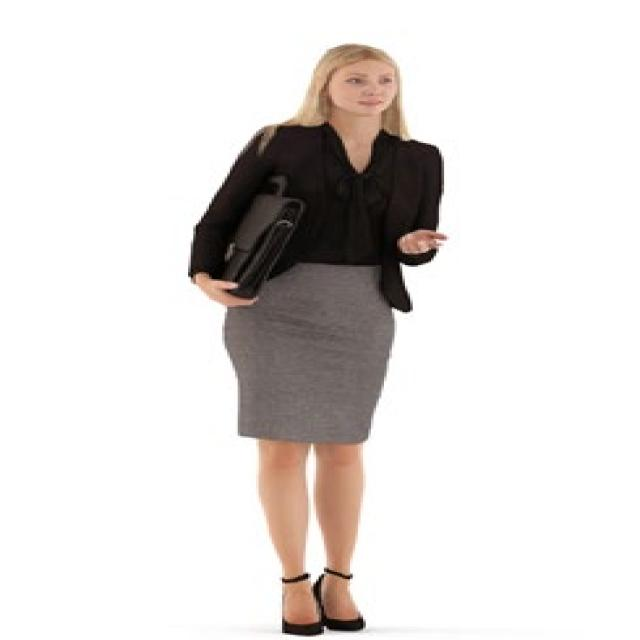standing: (185, 39, 452, 640)
